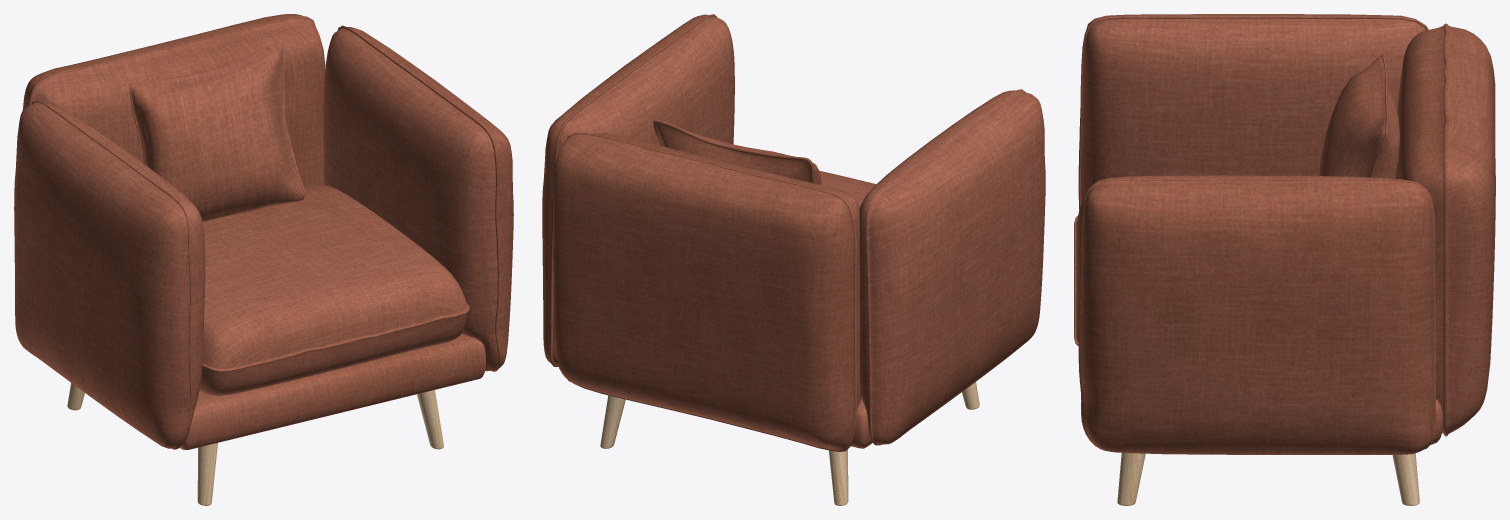
The picture shows the model from 3 angles, left to right: view 1: azimuth 30°, elevation 25°; view 2: azimuth 150°, elevation 25°; view 3: azimuth 270°, elevation 25°; orthographic projection. The views are drawn at different scales.
Parts seen in each view (by area): view 1: fabric, legs; view 2: fabric, legs; view 3: fabric, legs.
Boxes of the visible parts, box(x1,y1,x2,y2) form: fabric: box(14, 14, 513, 449); legs: box(67, 383, 443, 505); fabric: box(542, 14, 1045, 451); legs: box(600, 382, 979, 505); fabric: box(1074, 14, 1495, 454); legs: box(1117, 452, 1419, 505).
Size of the model in its own units: 0.8801 by 0.726 by 0.7849.
2 materials, 2 textured.
